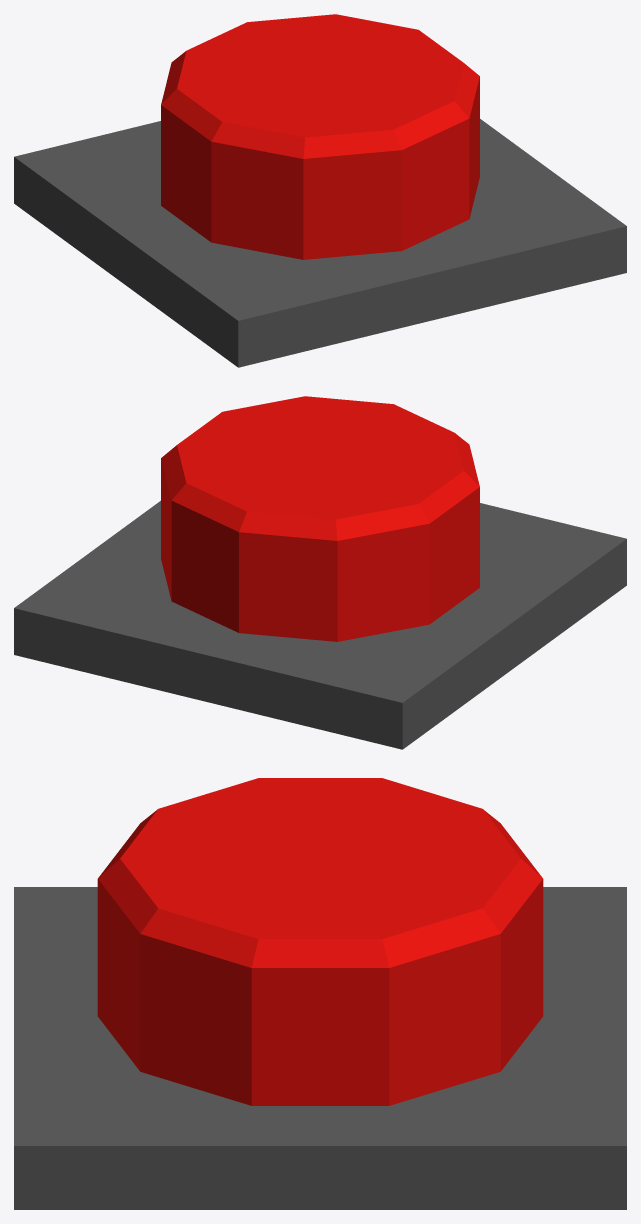
File: button.obj
The picture shows the model from 3 angles, top to bottom: view 1: azimuth 30°, elevation 25°; view 2: azimuth 150°, elevation 25°; view 3: azimuth 270°, elevation 25°; orthographic projection. The views are drawn at different scales.
Visible parts, largest first — view 1: group114495047, group1983936034; view 2: group114495047, group1983936034; view 3: group114495047, group1983936034.
Boxes of the visible parts, x1,y1,x2,y2 form: group114495047: [161, 14, 479, 259]; group1983936034: [14, 119, 626, 367]; group114495047: [161, 396, 479, 641]; group1983936034: [14, 501, 626, 749]; group114495047: [97, 778, 543, 1105]; group1983936034: [14, 887, 626, 1209].
Bounding box in the file's own units: 1.39 × 0.5549 × 1.39.
